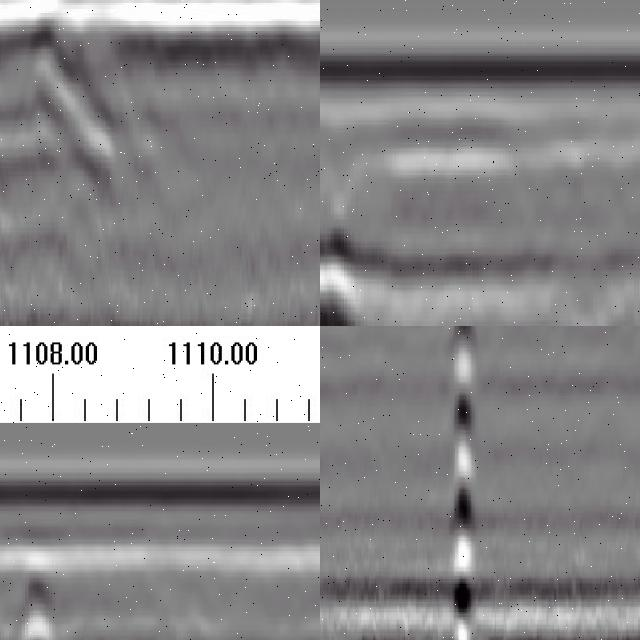crack: (448, 327, 475, 640), (1, 557, 64, 640)
loose: (1, 2, 169, 185), (321, 222, 404, 327)
